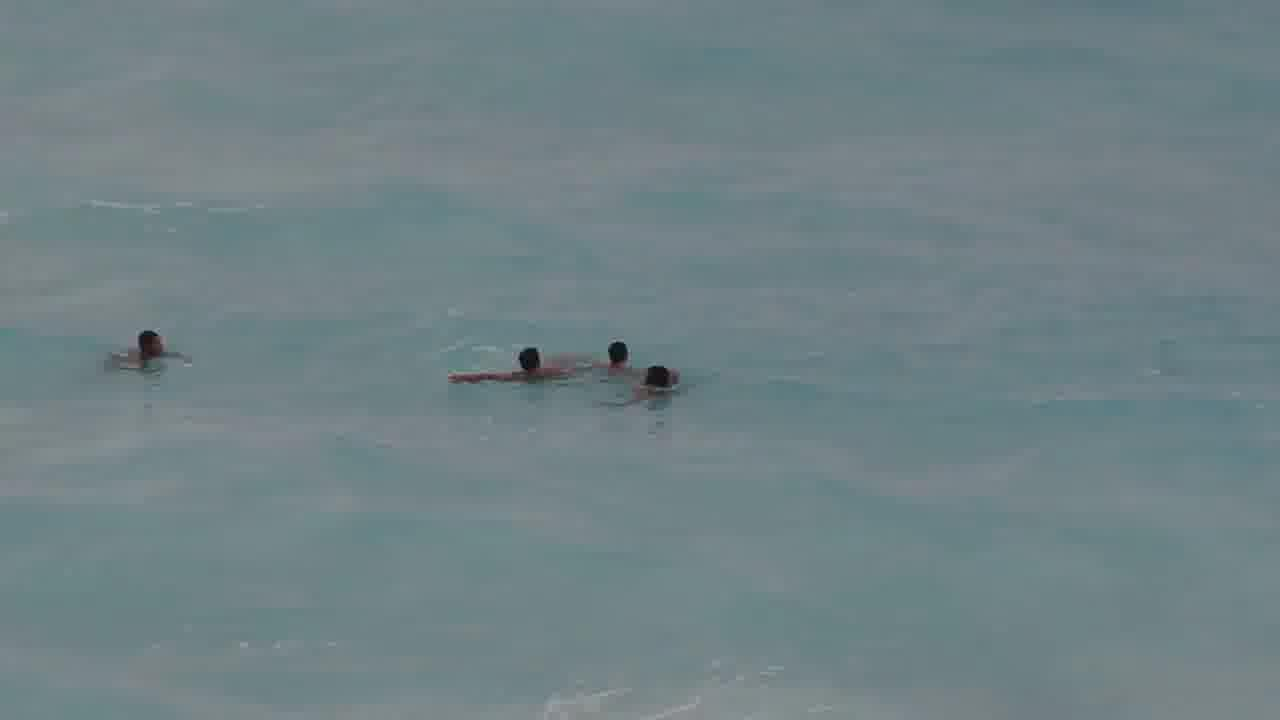swimmer: (110, 319, 189, 368), (504, 341, 552, 388), (592, 333, 634, 372), (643, 359, 677, 405)
